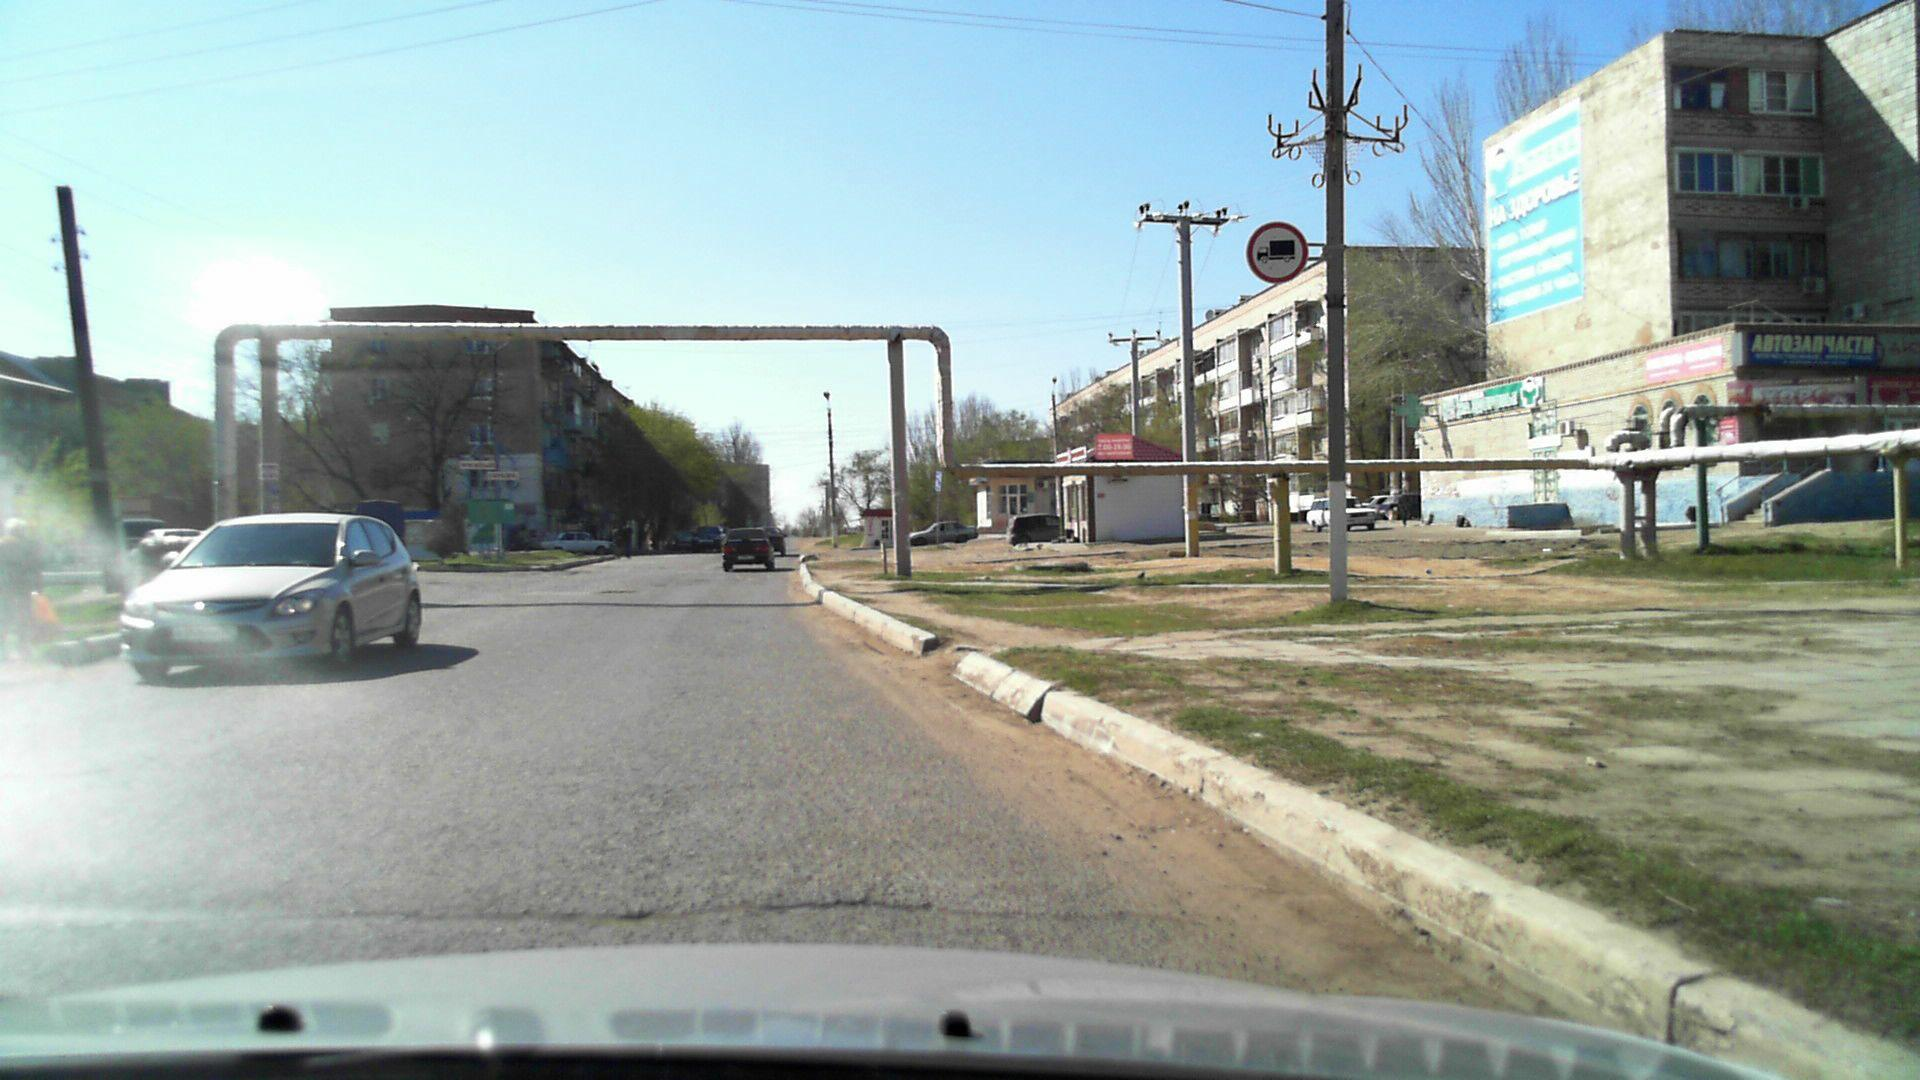3_4: (1244, 218, 1309, 284)
